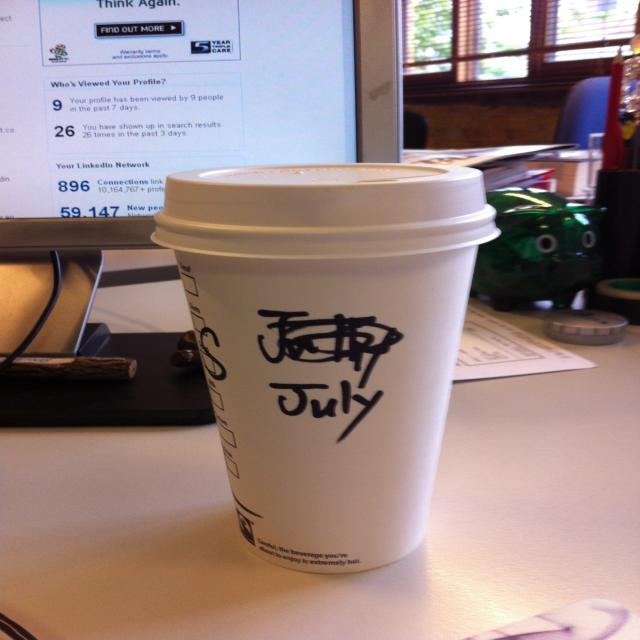paper cup: (151, 163, 500, 574)
